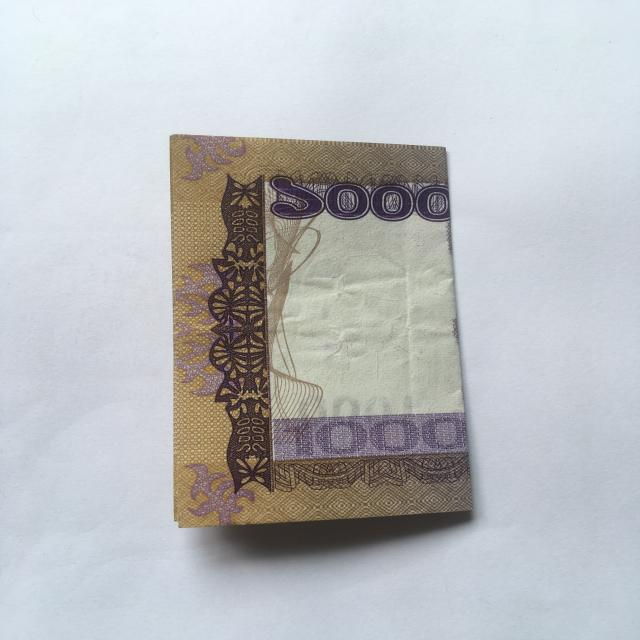Taka: (168, 130, 478, 540)
